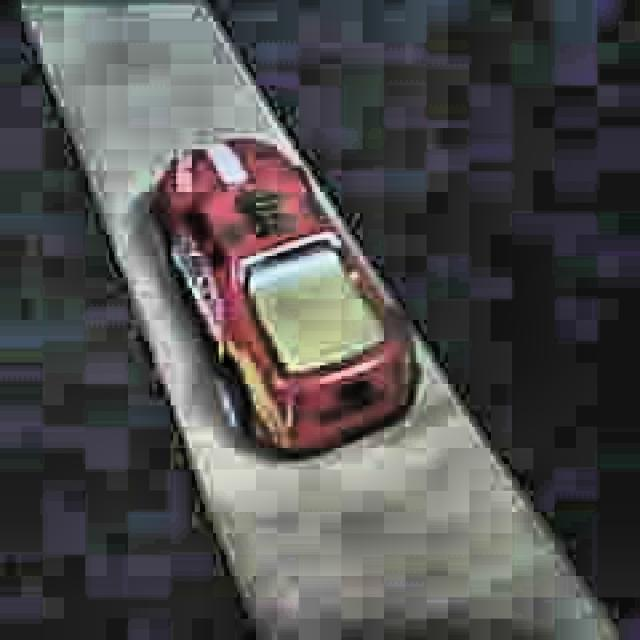car: (145, 136, 424, 464)
